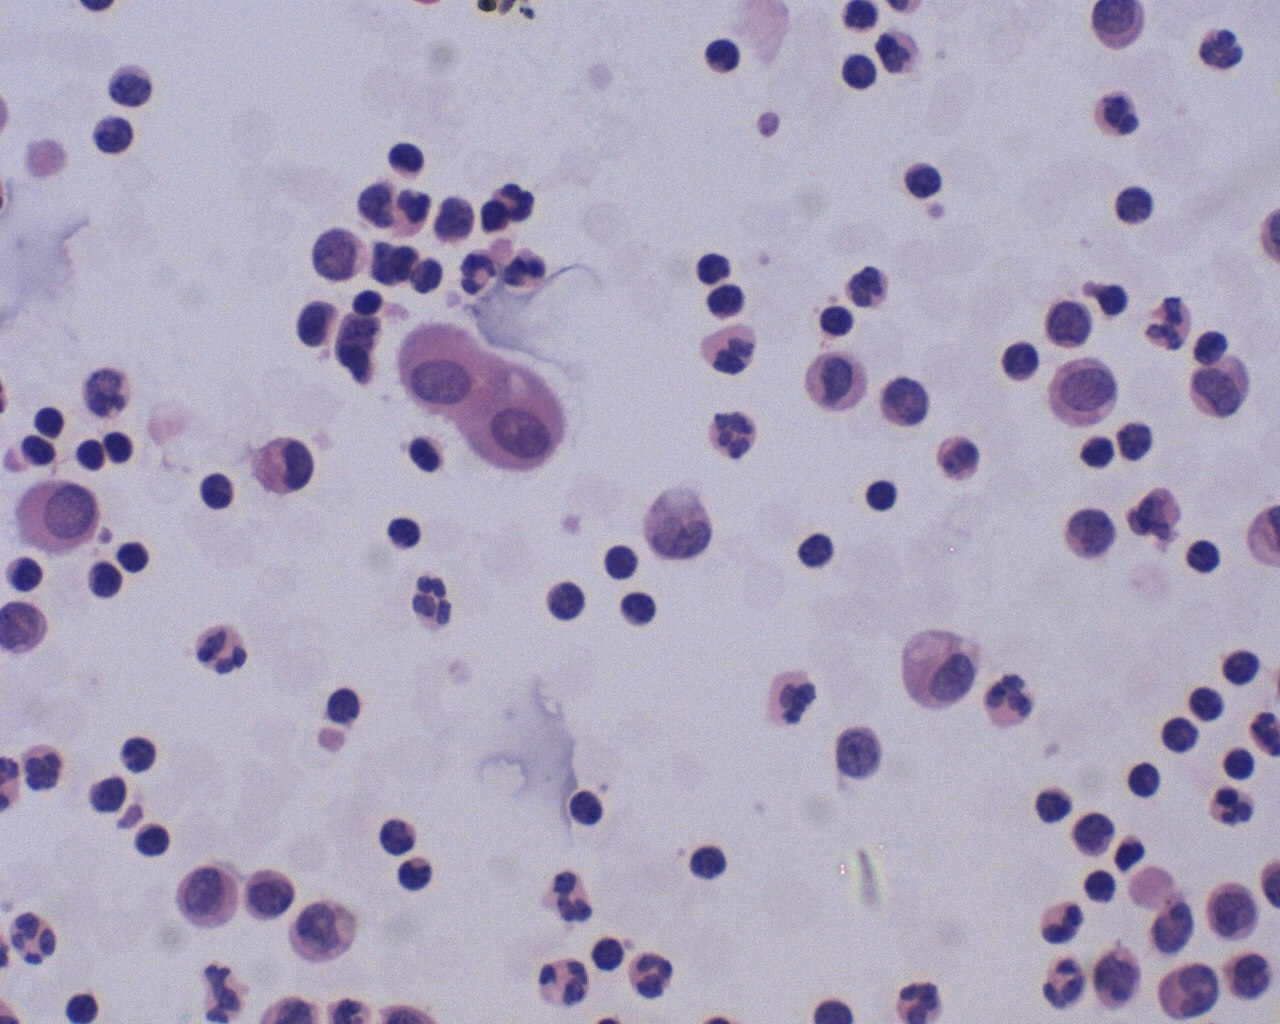ab: (9, 475, 104, 559), (1046, 351, 1122, 433), (287, 895, 363, 970), (169, 864, 245, 934), (1154, 956, 1224, 1023), (307, 222, 373, 287), (1203, 875, 1261, 940), (235, 864, 295, 925), (877, 369, 935, 428)
lymph: (1176, 531, 1227, 579), (834, 52, 888, 96), (1187, 682, 1238, 728), (700, 36, 752, 80), (591, 538, 639, 586), (683, 839, 734, 885), (563, 785, 614, 830), (379, 510, 428, 554), (1124, 757, 1167, 806), (543, 578, 587, 625), (796, 528, 839, 576), (861, 474, 900, 518)
meso: (466, 352, 571, 480), (391, 317, 488, 417), (894, 623, 984, 715)
neutro: (188, 615, 260, 681), (1, 906, 71, 972), (540, 862, 600, 927), (406, 569, 466, 633), (1206, 779, 1265, 835), (709, 398, 760, 463), (1038, 955, 1094, 1008), (983, 673, 1035, 730), (623, 947, 678, 1000), (1090, 86, 1138, 145), (844, 259, 897, 312), (1038, 894, 1086, 947), (453, 248, 505, 296)
